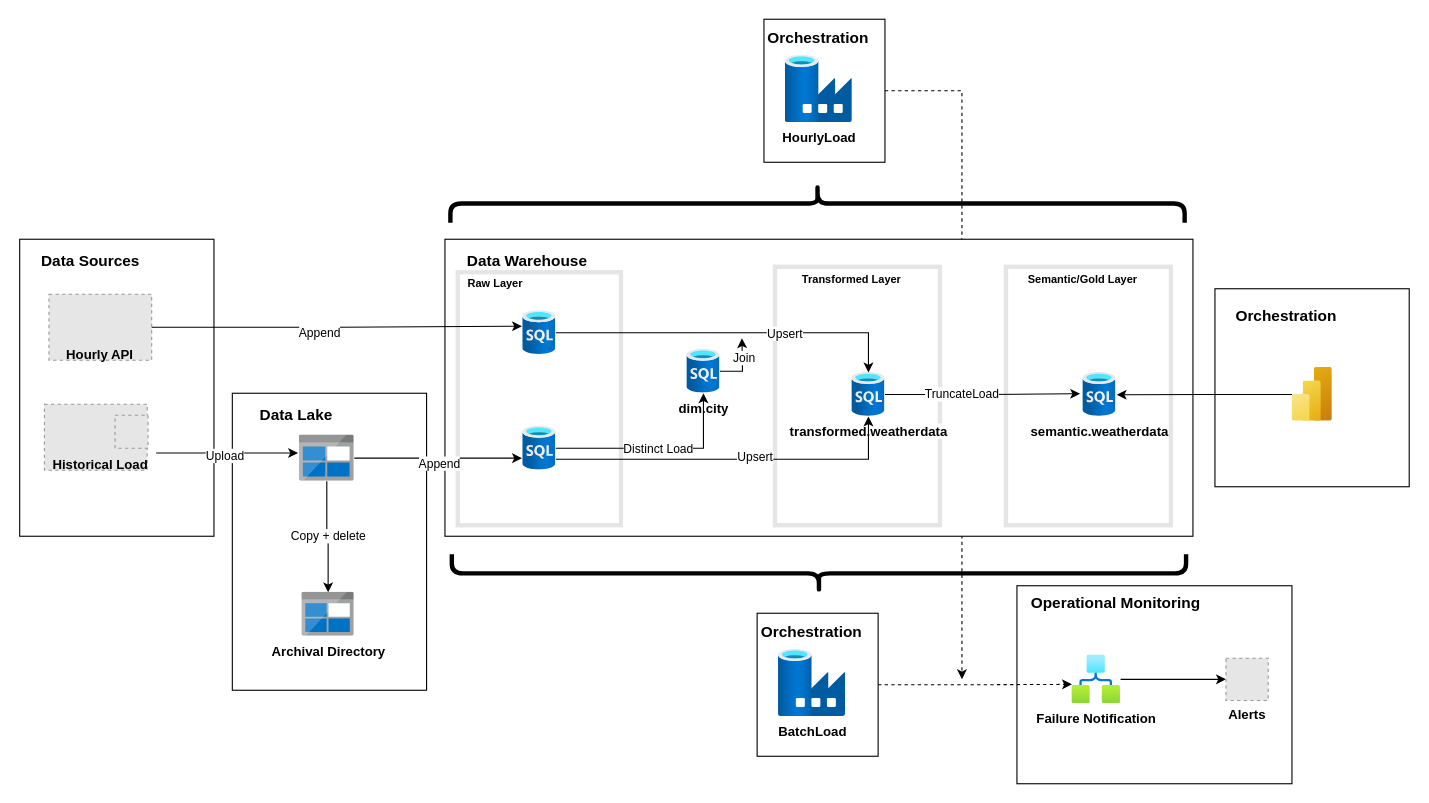
Some shapes in this 1429 by 803 pixel diagram are drawn without their labels. Grey dashed boxes stand in for pictures. Each missing label, with the centre of its shape:
"Landing Directory" belongs at point 326,458.
"Live + Hsitorical Reporting" belongs at point 1311,394.
"raw.batch_weatherdata" belongs at point 538,448.
"raw.hourly_weatherdata" belongs at point 538,332.
